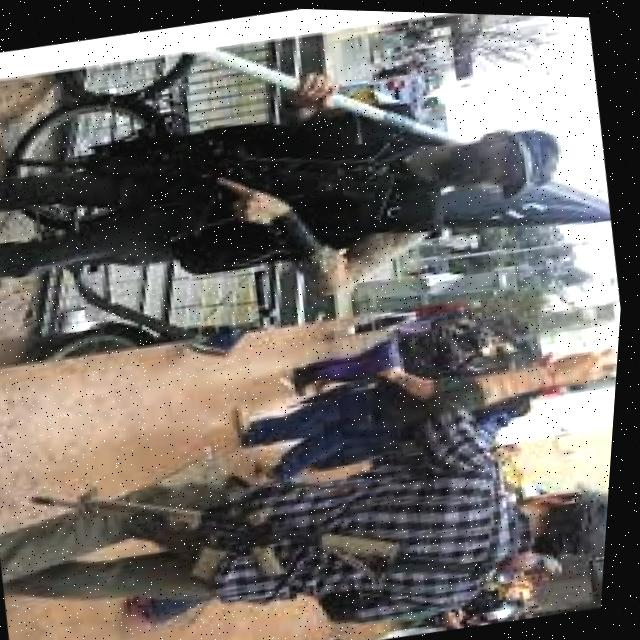firearm: (32, 430, 423, 637), (6, 89, 407, 277)
